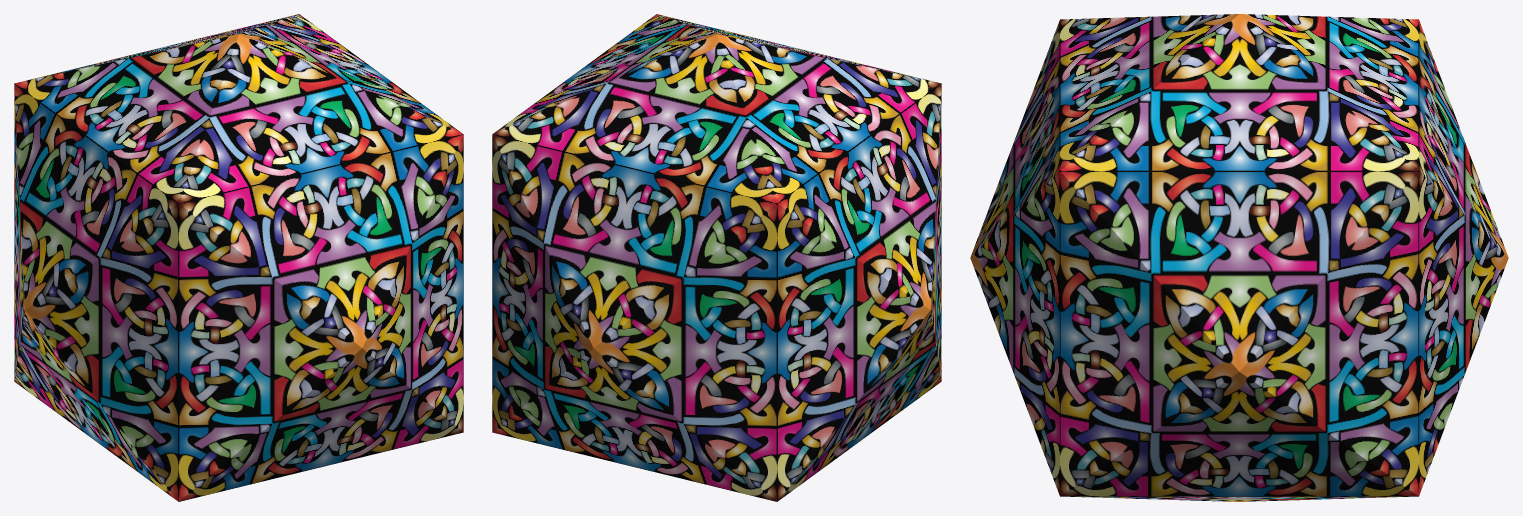
File: 33TetrakisHexahedron.obj
3 views of the same model, side by side, from view 1: azimuth 30°, elevation 25°; view 2: azimuth 150°, elevation 25°; view 3: azimuth 270°, elevation 25° (orthographic). The views are drawn at different scales.
Bounding box in the file's own units: 3.18 × 3.18 × 3.18.
Materials: 1 (1 with a texture image).
